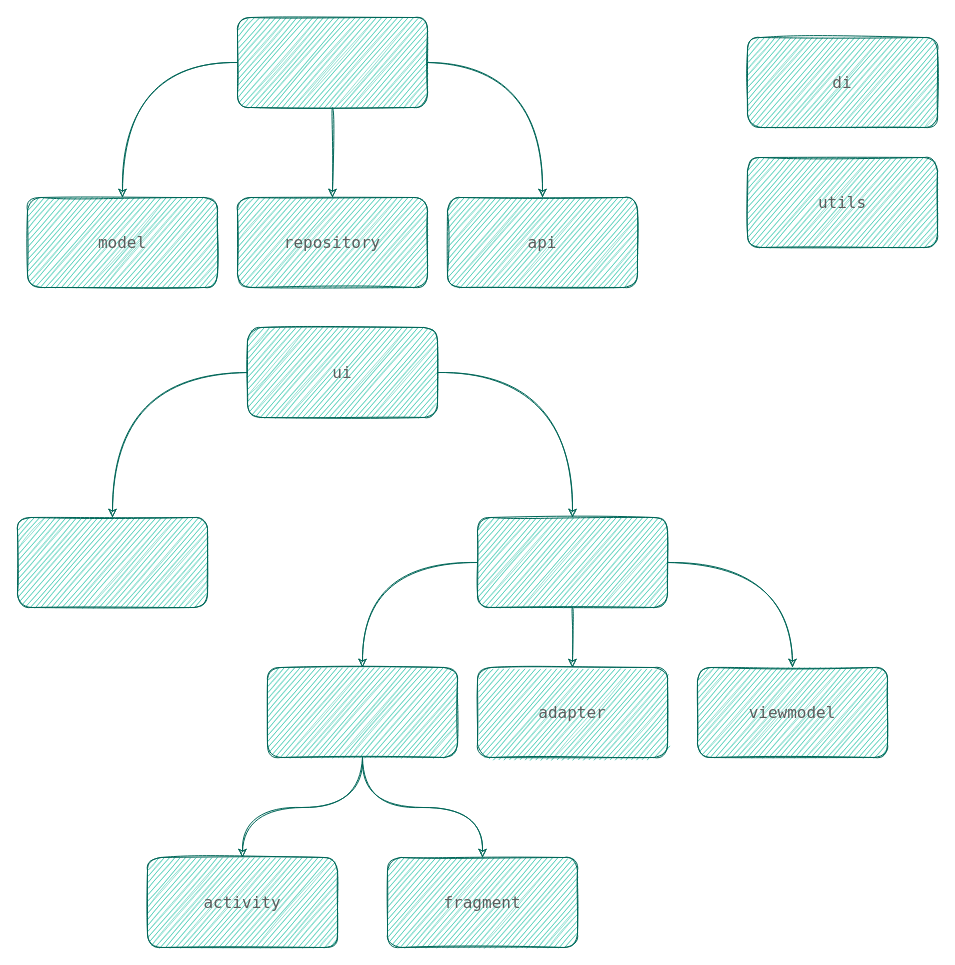
The diagram is 955 pixels wide and 965 high, and some of its shapes have lost their labels. The shapes that lost their labels are listed below. From the top down, each one's centre as x and y in pixels, then its label:
At (332,62): "data".
At (112,562): "base".
At (572,562): "main".
At (362,712): "view".
